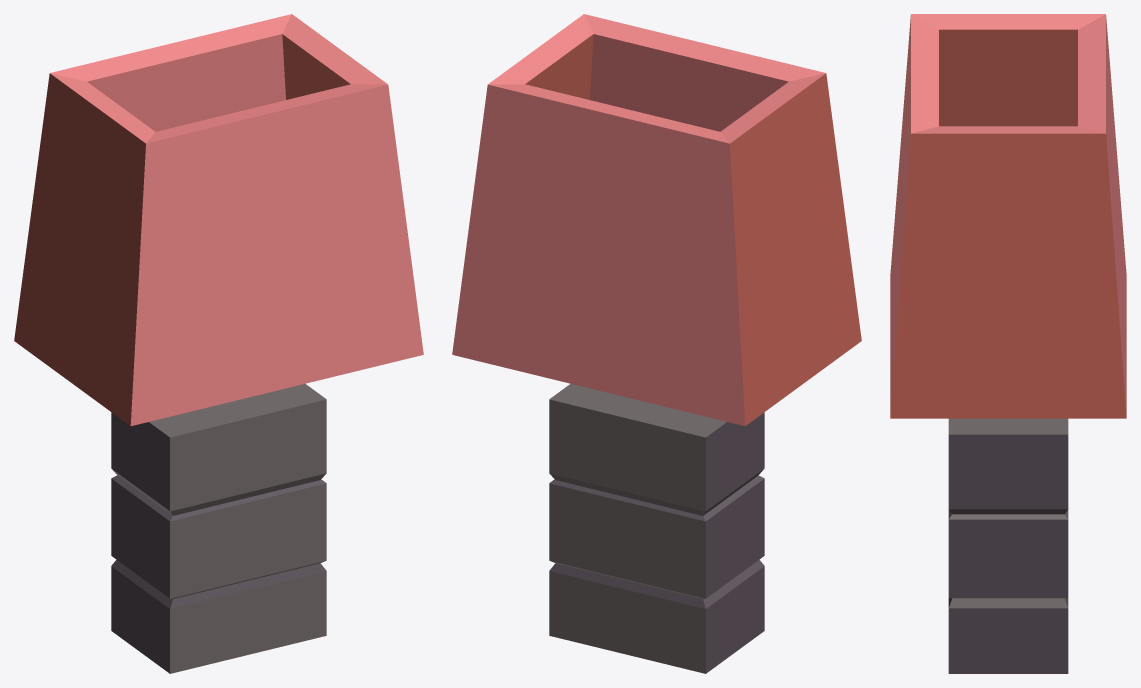
Rendered from Side Table  lamp.fbx.
3 views of the same model, side by side, from view 1: azimuth 30°, elevation 25°; view 2: azimuth 150°, elevation 25°; view 3: azimuth 270°, elevation 25° (orthographic).
Visible parts, largest first — view 1: Side Table lamp; view 2: Side Table lamp; view 3: Side Table lamp.
Boxes of the visible parts, box(x1,y1,x2,y2) form: Side Table lamp: box(14, 14, 423, 673); Side Table lamp: box(452, 14, 861, 673); Side Table lamp: box(890, 14, 1126, 673).
Bounding box in the file's own units: 89.82 × 162 × 61.87.
